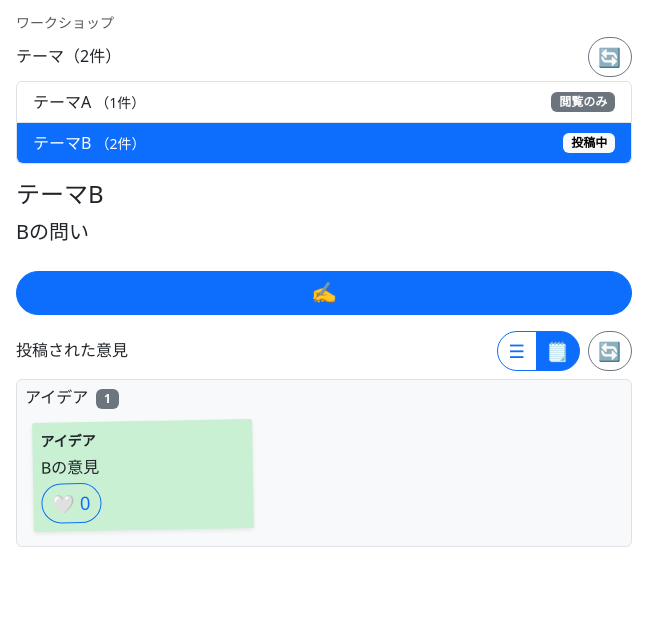
Test: 招待URLの画面 › 別のテーマを選ぶと、その意見を見られる。投稿はできない旨を出す
The image size is (649, 628).
Check: the text "Bの問い" is shown, box left=16, top=218, right=89, bottom=245
Click the button "テーマA（1件） 閲覧のみ". click: [62, 102]
box: left=17, top=82, right=631, bottom=122
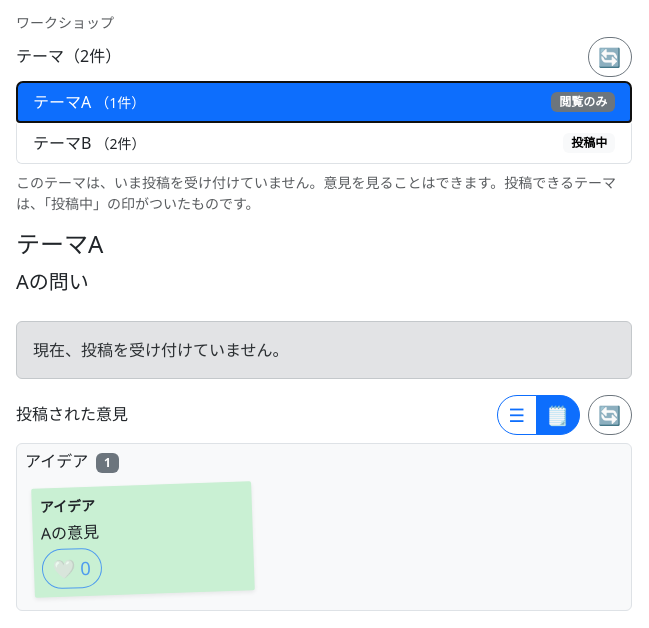
Check: the text "Aの問い" is shown, box left=16, top=268, right=89, bottom=295
Check: the text "Aの意見" is shown, box left=40, top=520, right=99, bottom=544
Check: the text "いま投稿を受け付けていません。意見を見ることはできます" is shown, box left=16, top=173, right=504, bottom=192
